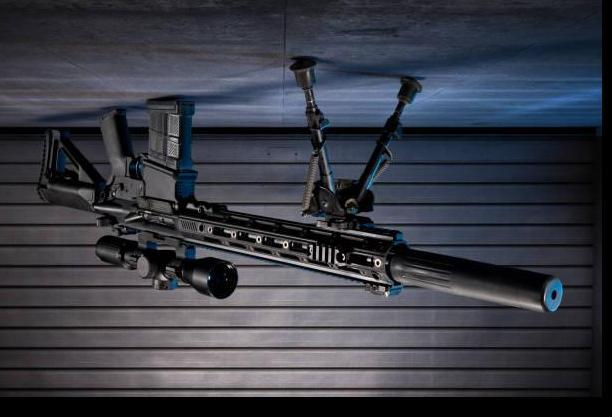larga: (36, 57, 565, 315)
